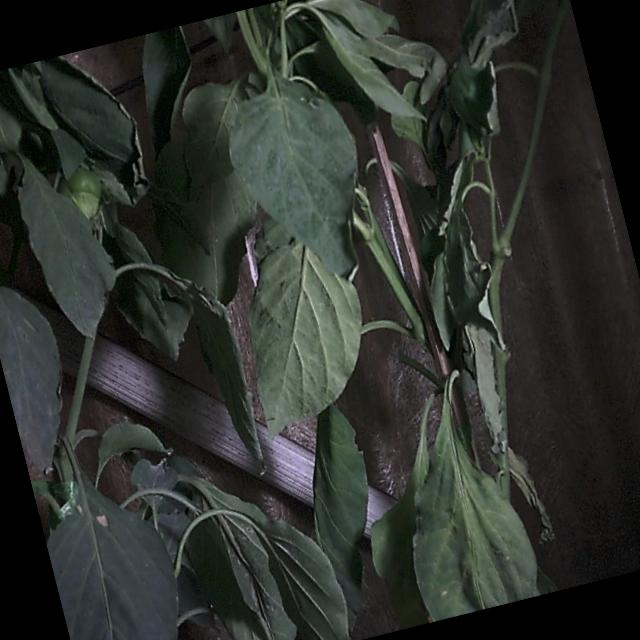Leaf: (413, 381, 537, 619), (230, 79, 357, 275), (249, 243, 361, 435), (47, 481, 178, 639), (19, 158, 114, 336), (314, 405, 368, 628), (0, 287, 61, 468), (142, 26, 191, 154)
